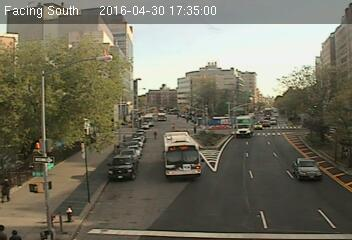neg: (73, 40, 95, 69), (90, 112, 109, 137), (112, 58, 128, 80), (229, 120, 245, 141), (289, 109, 303, 128), (58, 110, 72, 129), (184, 168, 195, 183), (111, 147, 121, 161), (200, 73, 209, 85), (149, 36, 155, 44)
pos: (151, 128, 160, 141)
